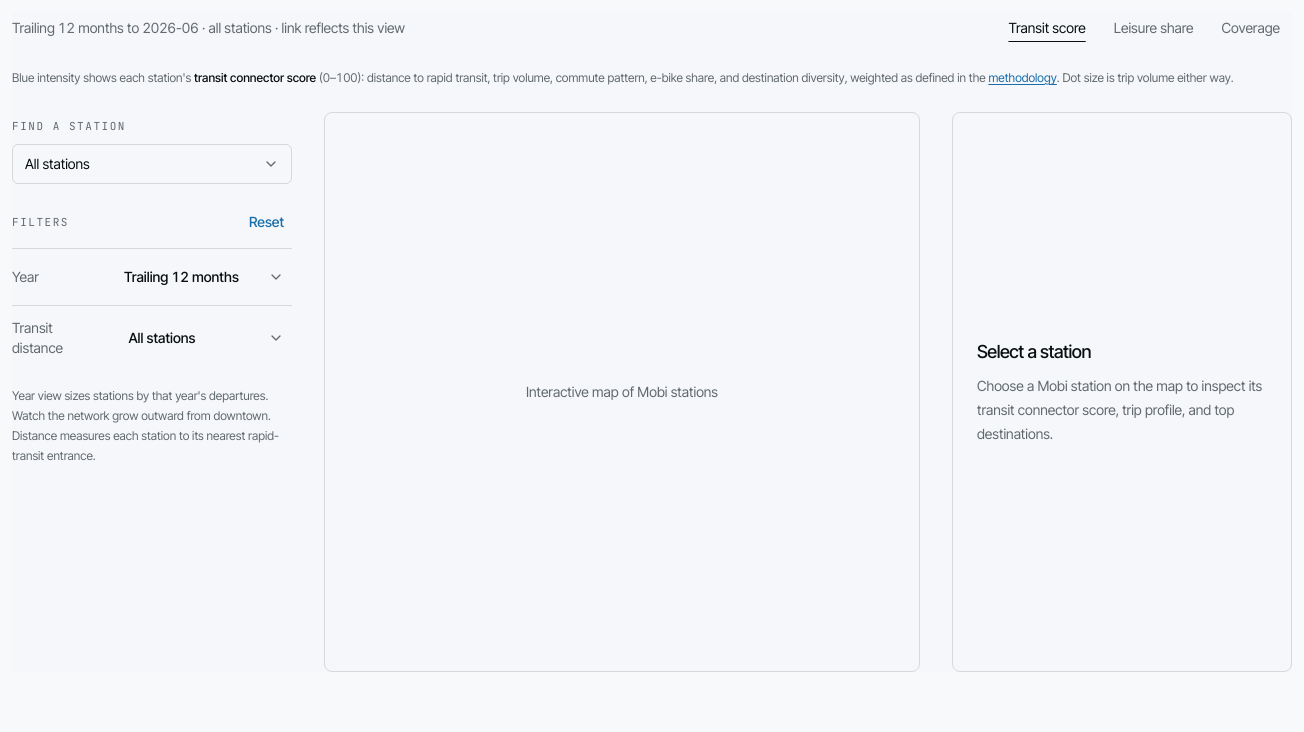
Test: Explorer › coverage mode round-trips through the URL and swaps the explainer
Click the button "Coverage".
click(1251, 28)  # box [1210,12,1292,44]
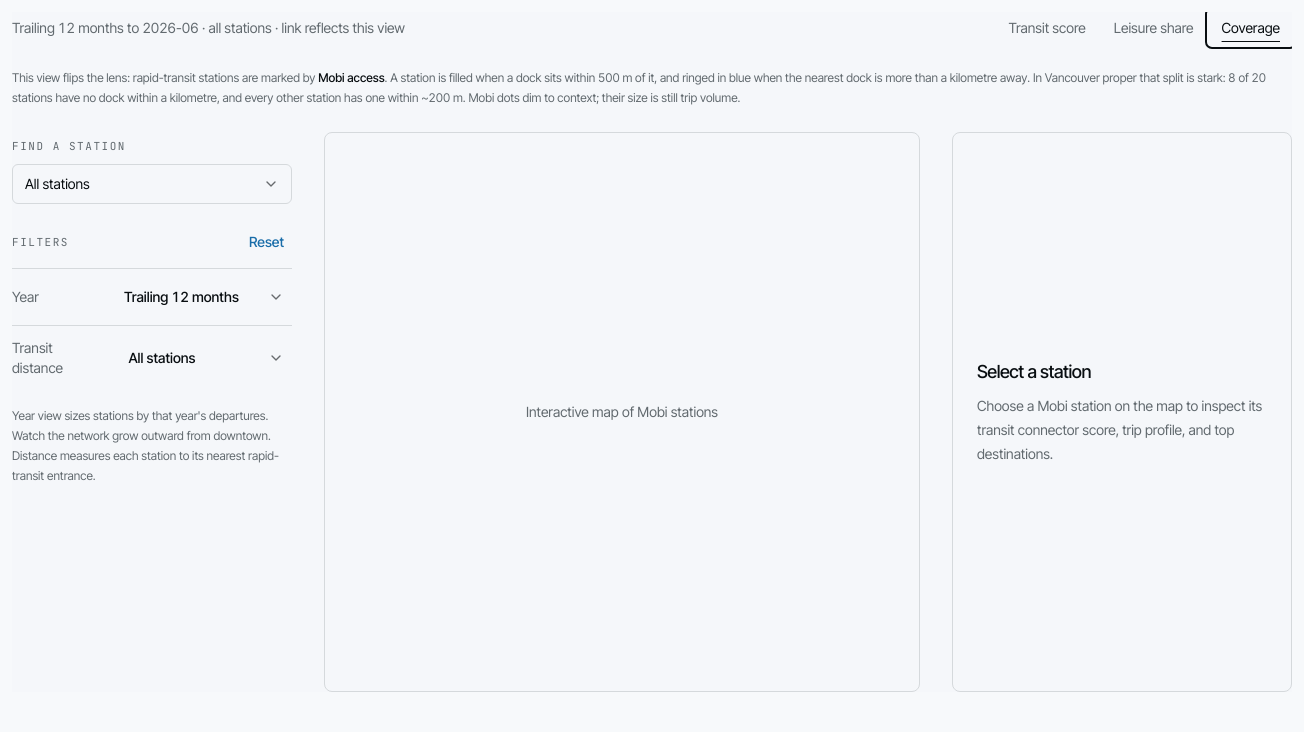
Check: the text "marked by" is shown, box [12,70,315,85]
Check: the text "Mobi access" is shown, box [318,70,384,85]
